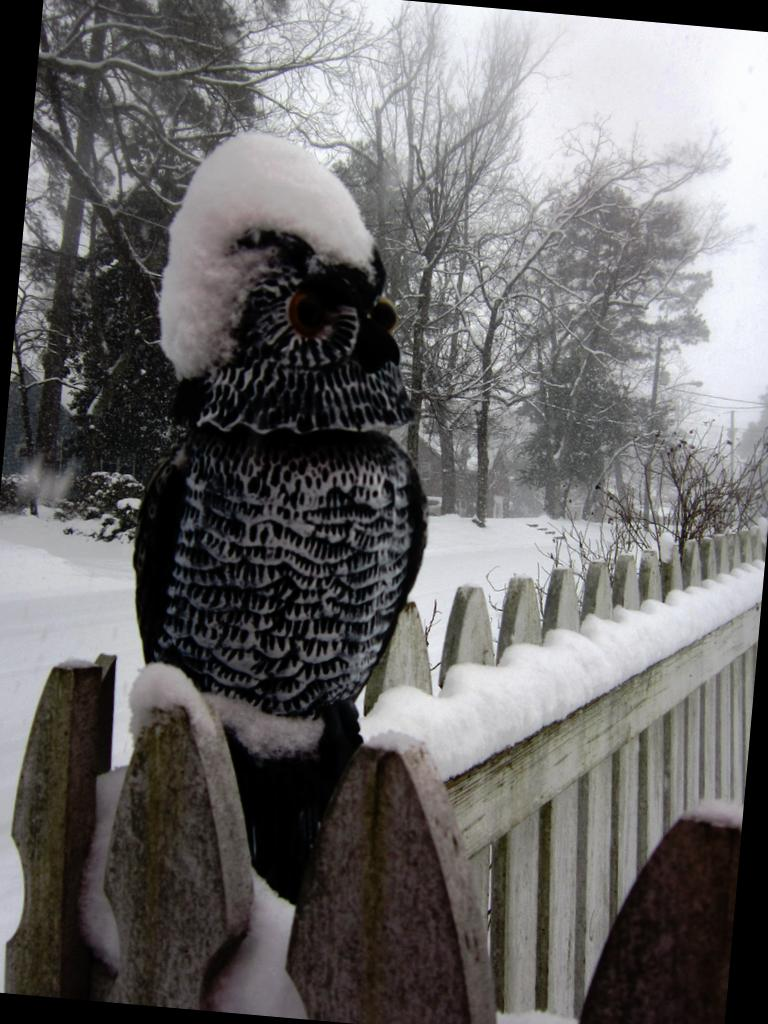Owl: (106, 219, 464, 907)
